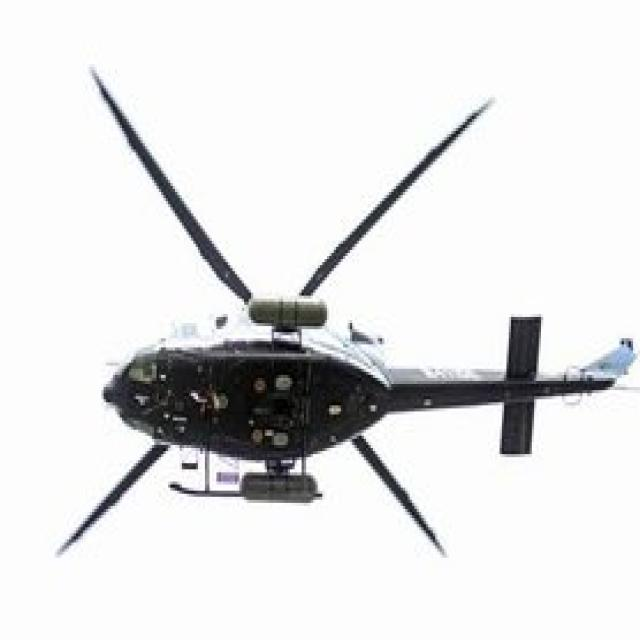helicopter: (54, 65, 640, 562)
